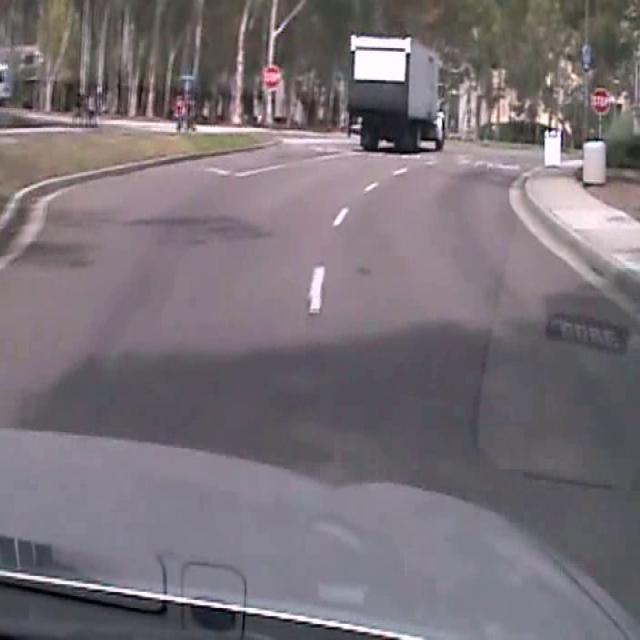stop: (591, 85, 610, 114), (262, 63, 281, 89)
